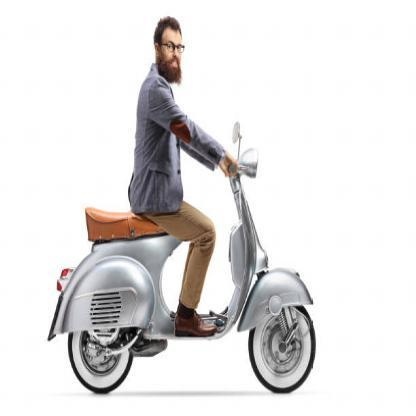Motorcycle: (56, 129, 319, 394)
